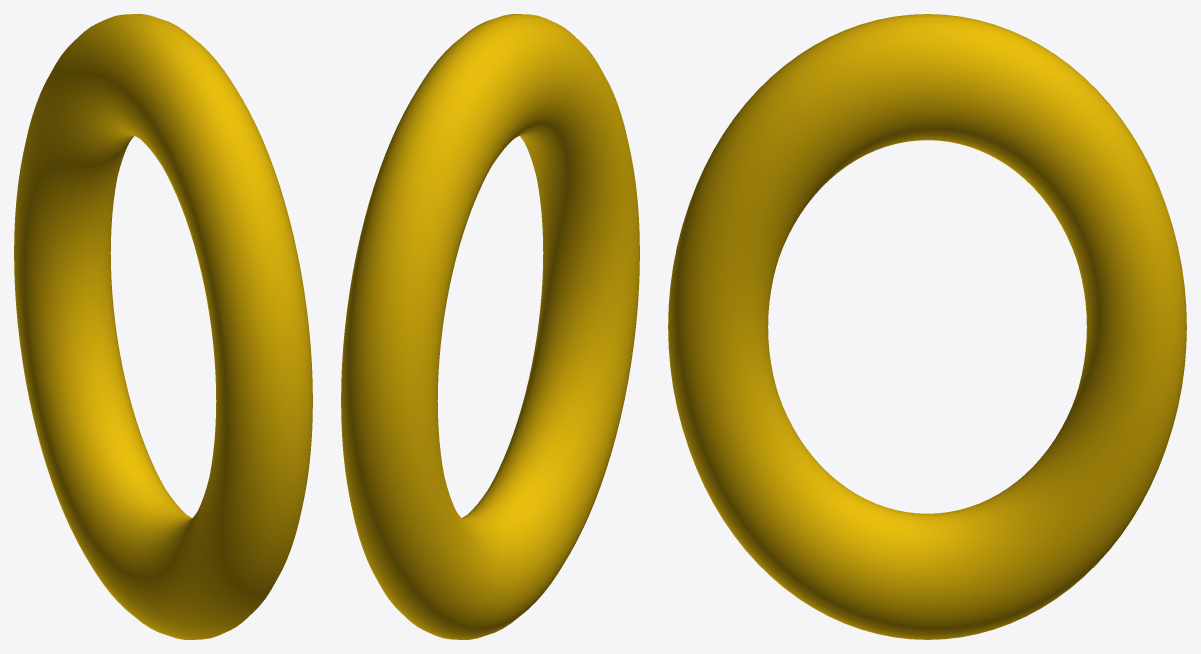
The model's file is collectable.glb.
3 renders of one model, left to right at view 1: azimuth 30°, elevation 25°; view 2: azimuth 150°, elevation 25°; view 3: azimuth 270°, elevation 25°, orthographic. The views are drawn at different scales.
Visible parts, largest first — view 1: Torus; view 2: Torus; view 3: Torus.
Part boxes in pixels (left/top/right/bottom): Torus: left=14, top=14, right=312, bottom=639; Torus: left=341, top=14, right=639, bottom=639; Torus: left=668, top=14, right=1186, bottom=639.
Bounding box in the file's own units: 0.4777 × 3.25 × 2.47.
